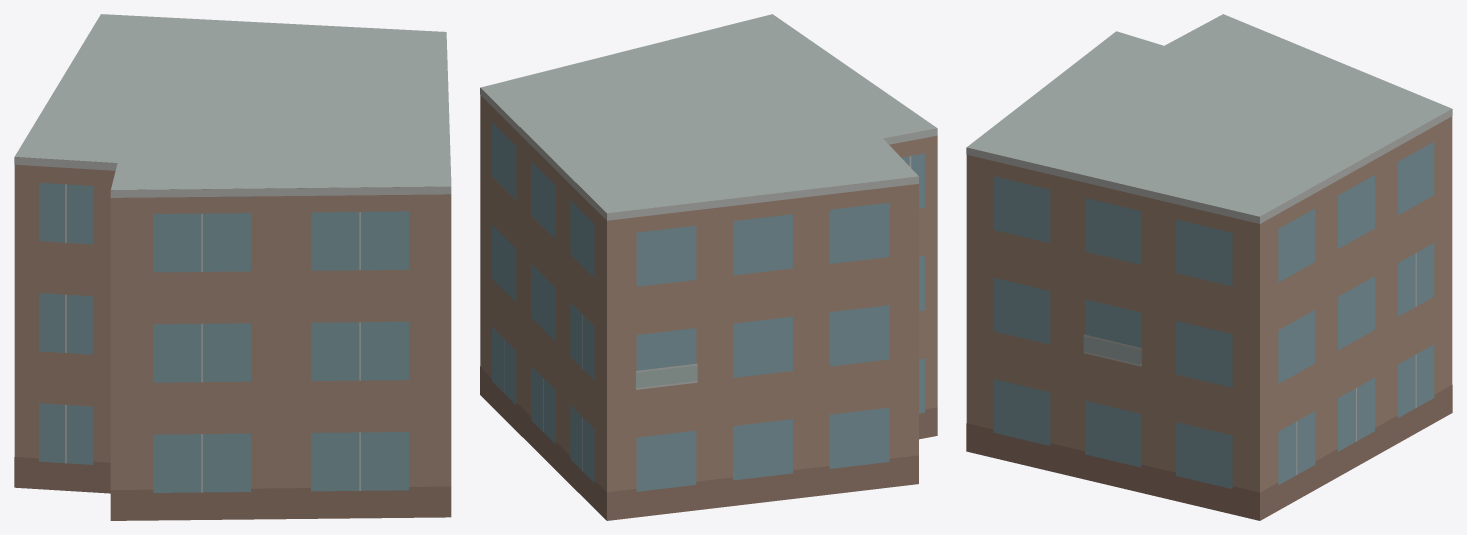
The model's file is survey-upis-32471546.glb.
3 views of the same model, side by side, from view 1: azimuth 30°, elevation 25°; view 2: azimuth 150°, elevation 25°; view 3: azimuth 270°, elevation 25° (orthographic). The views are drawn at different scales.
Parts seen in each view (by area): view 1: survey-upis-32471546.tmp; view 2: survey-upis-32471546.tmp; view 3: survey-upis-32471546.tmp.
Part boxes in pixels (x1=…): survey-upis-32471546.tmp: x1=14, y1=14, x2=451, y2=520; survey-upis-32471546.tmp: x1=480, y1=14, x2=937, y2=520; survey-upis-32471546.tmp: x1=966, y1=14, x2=1452, y2=520.
Size of the model in its own units: 14.64 by 10.23 by 14.83.
